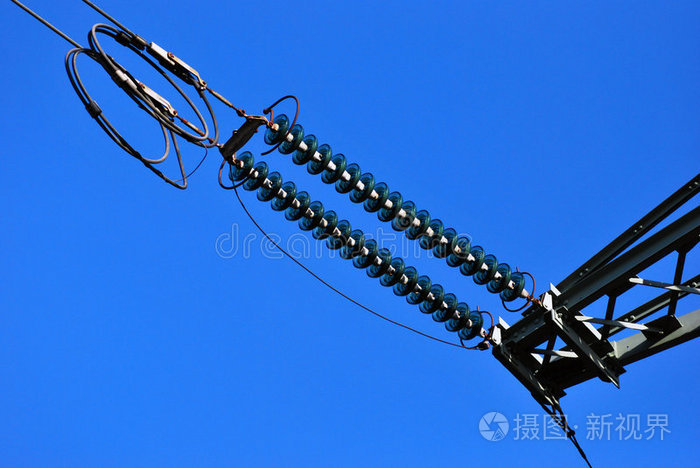insulator: (259, 110, 528, 304), (230, 149, 485, 342)
